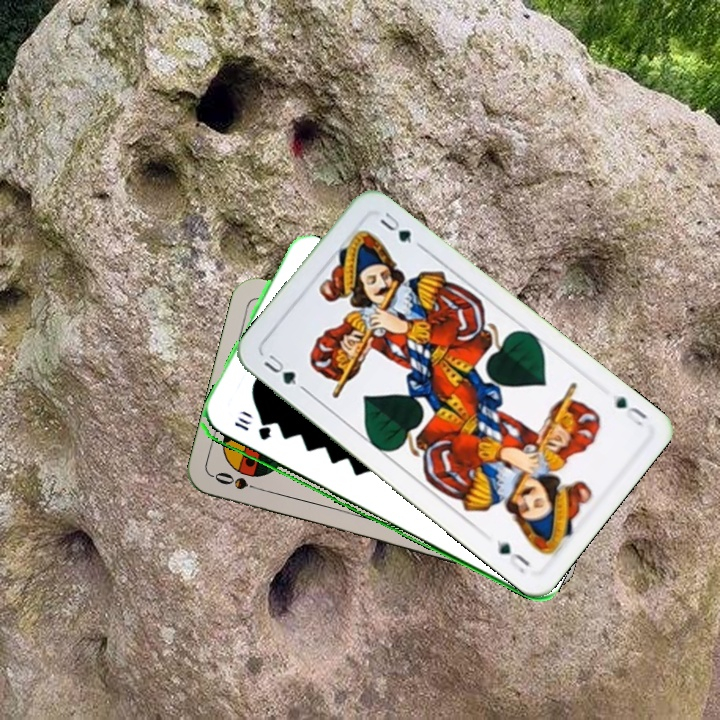G10: (230, 417, 274, 443)
GU: (259, 350, 299, 388), (611, 391, 651, 429)
SO: (210, 468, 268, 495)
